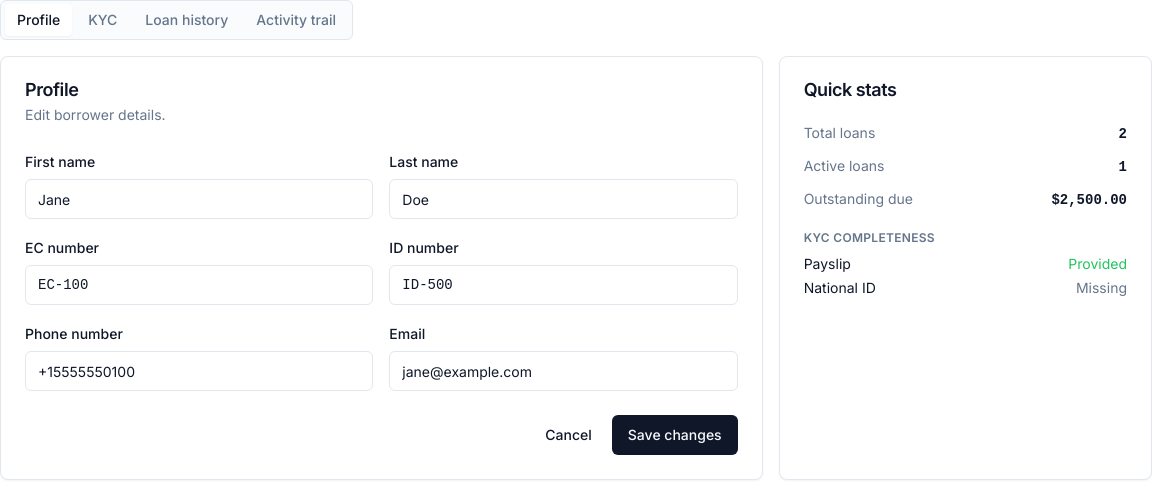
Test: BorrowerTabs › KYC tab renders the four document cards
Step 1. Click the tab "KYC" → (103, 20), box [76, 4, 129, 36]
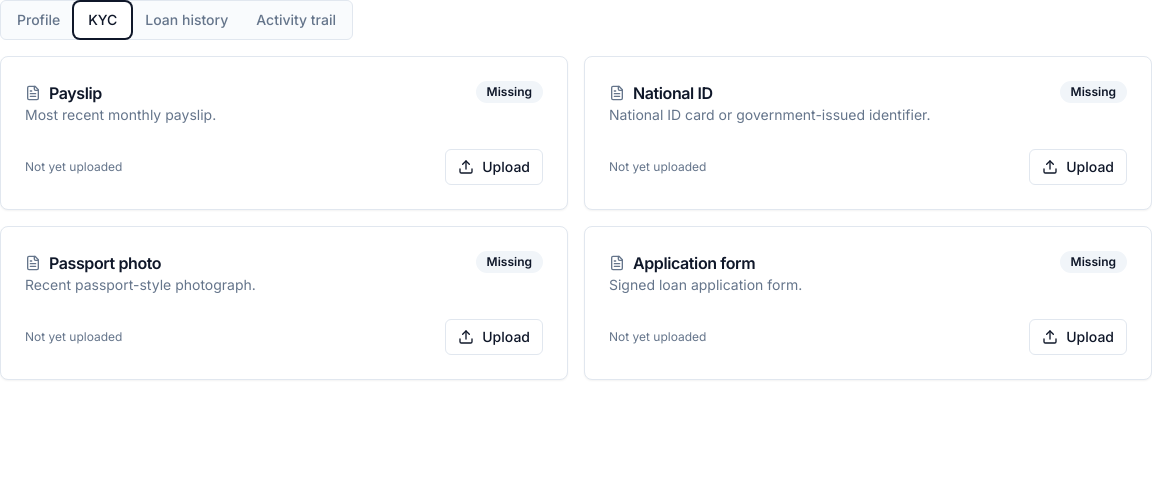
Expected: the heading "Payslip" is shown, [25, 83, 102, 103]
Expected: the heading "National ID" is shown, [609, 83, 713, 103]
Expected: the heading "Passport photo" is shown, [25, 253, 161, 273]
